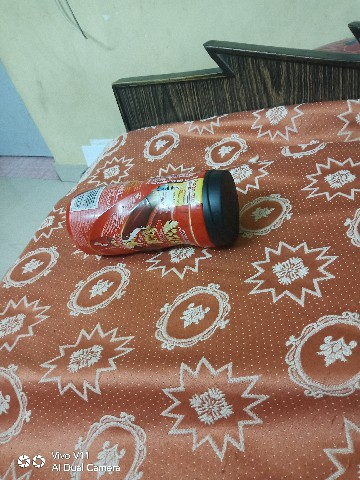boost big: (54, 164, 256, 253)
